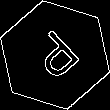P_SE: (24, 24, 86, 86)
